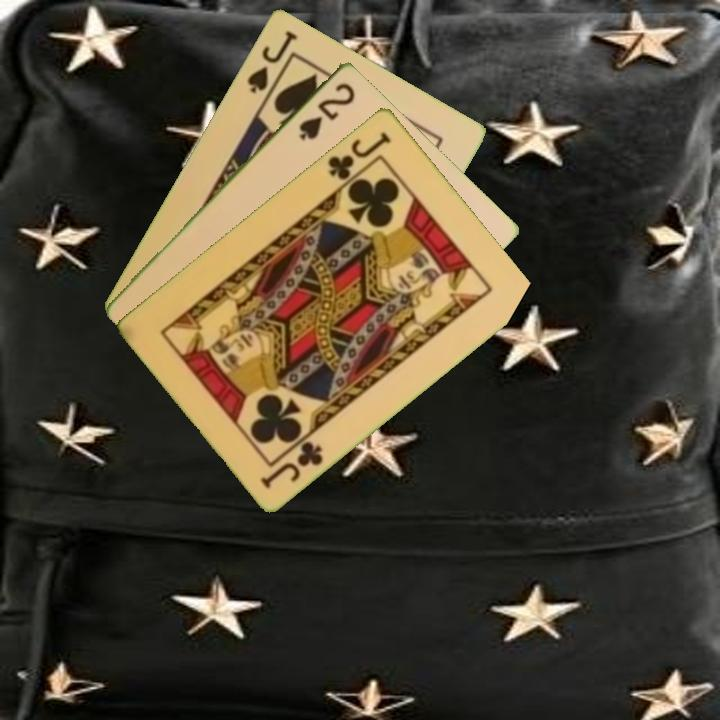2s: (295, 78, 358, 143)
Jc: (324, 127, 394, 183), (256, 436, 326, 492)
Js: (243, 26, 300, 96)
